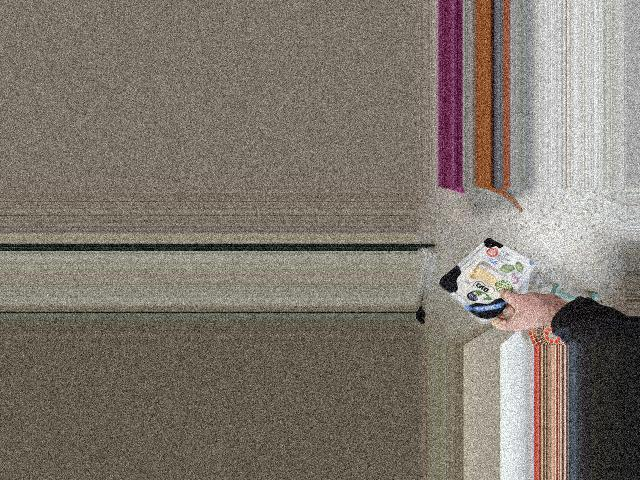cheese: (452, 232, 521, 342)
